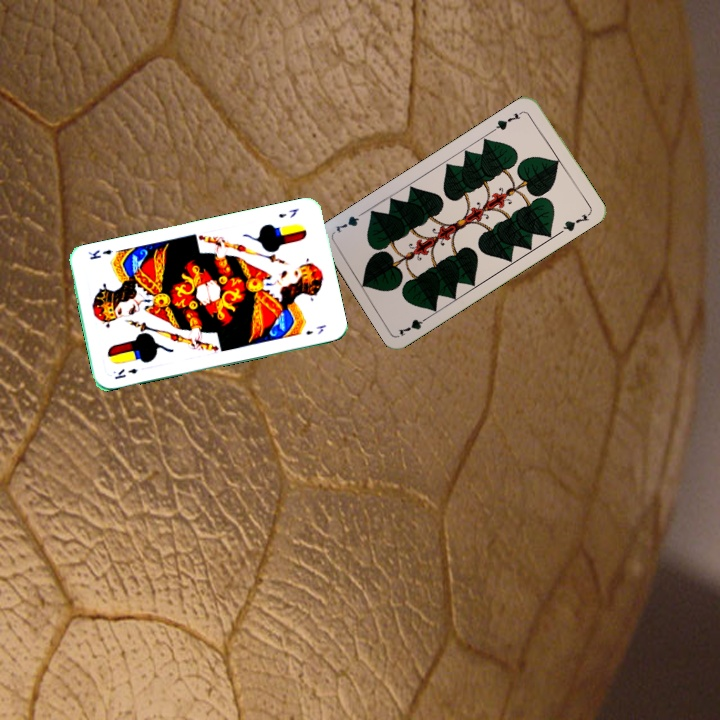EK: (111, 364, 140, 382), (274, 205, 301, 220)
G7: (394, 311, 433, 339), (489, 107, 526, 133)
